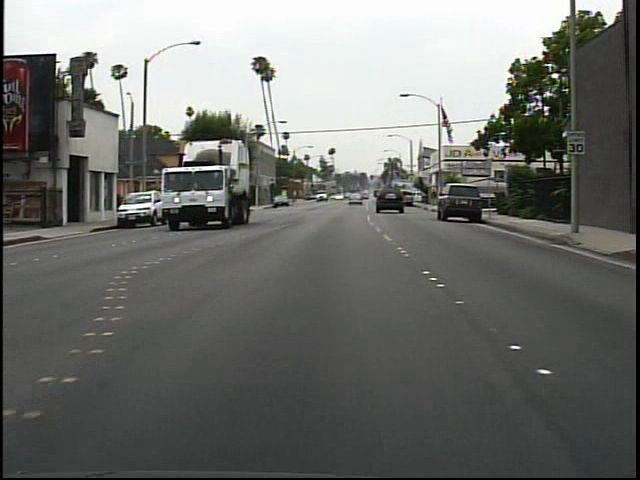person: (425, 183, 442, 212)
